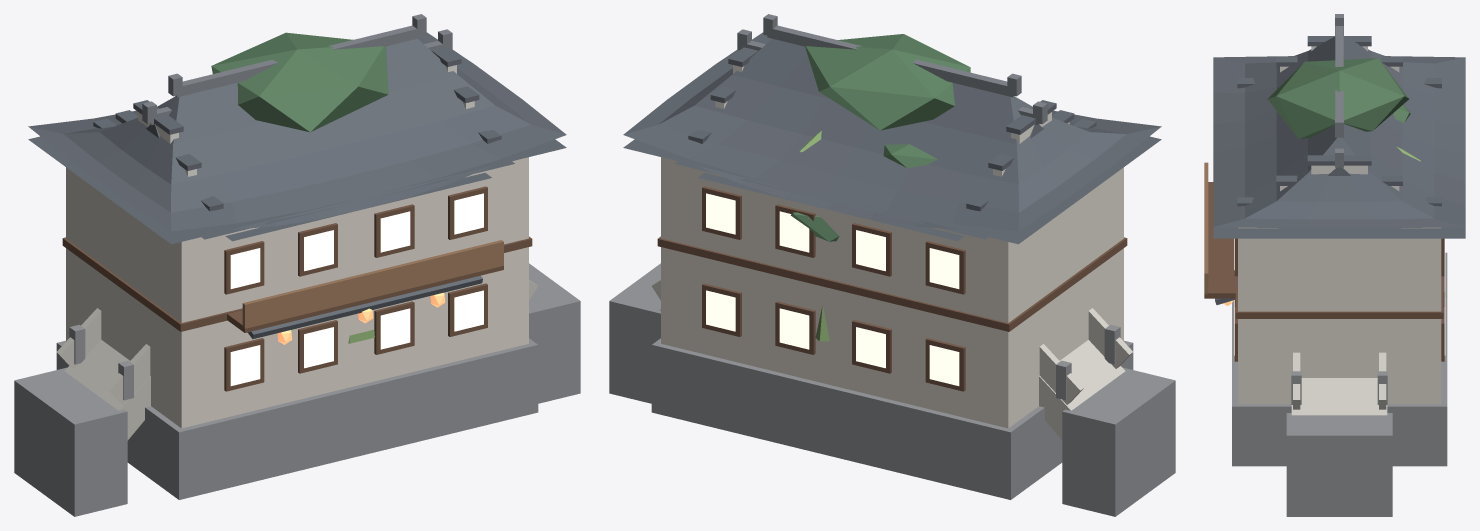
File: gusu_modular_kit.glb
The picture shows the model from 3 angles, left to right: view 1: azimuth 30°, elevation 25°; view 2: azimuth 150°, elevation 25°; view 3: azimuth 270°, elevation 25°; orthographic projection. The views are drawn at different scales.
Parts seen in each view (by area): view 1: HouseB, StoneBridge, PineTree, HouseC, HouseA; view 2: HouseB, StoneBridge, PineTree, HouseA, HouseC; view 3: HouseB, StoneBridge, PineTree, HouseA.
Part boxes in pixels (x1,y1,x2,y2): HouseB: (28, 14, 566, 499); StoneBridge: (14, 263, 580, 516); PineTree: (211, 32, 388, 132); HouseC: (225, 166, 491, 344); HouseA: (93, 29, 514, 239); HouseB: (623, 14, 1161, 499); StoneBridge: (609, 263, 1175, 516); PineTree: (790, 34, 970, 241); HouseA: (675, 29, 1096, 239); HouseC: (698, 166, 964, 241); HouseB: (1204, 14, 1465, 466); StoneBridge: (1286, 352, 1392, 516); PineTree: (1267, 58, 1410, 138); HouseA: (1237, 33, 1441, 206).
Bounding box in the file's own units: 17.2 × 12.54 × 8.75.
